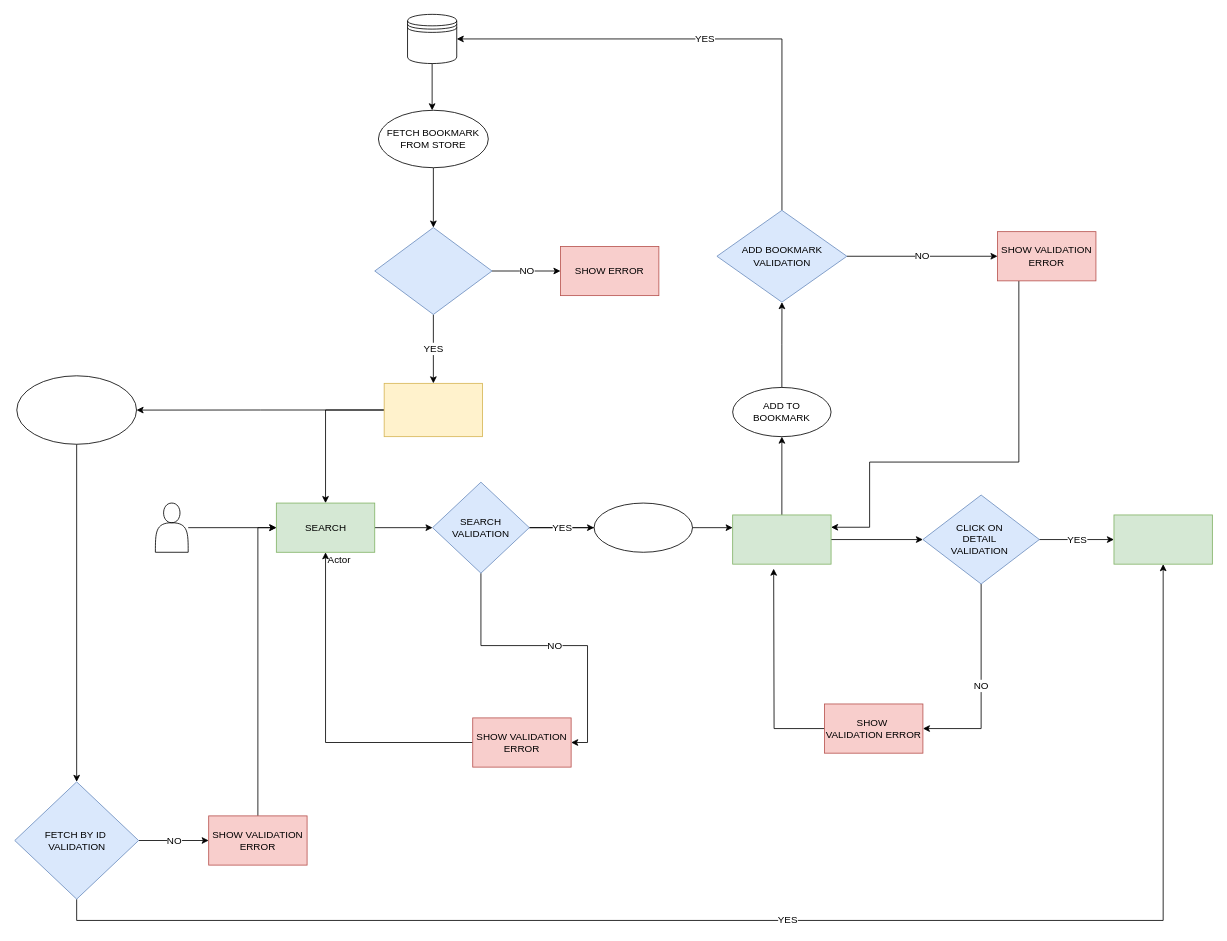
Some shapes in this 1227 by 941 pixel diagram are drawn without their labels. The shapes that lost their labels are listed below. From the top down, each one's centre as x and y in pixels, then its label:
At (433,270): "FETCH BOOKAMRK VALIDATION".
At (76,409): "FETCH BY ID FROM API".
At (433,410): "BOOKMARK".
At (642,527): "FETCH LIST FROM API".
At (781,539): "SEARCH LIST PAGE".
At (1162,539): "DETAIL PAGE".
